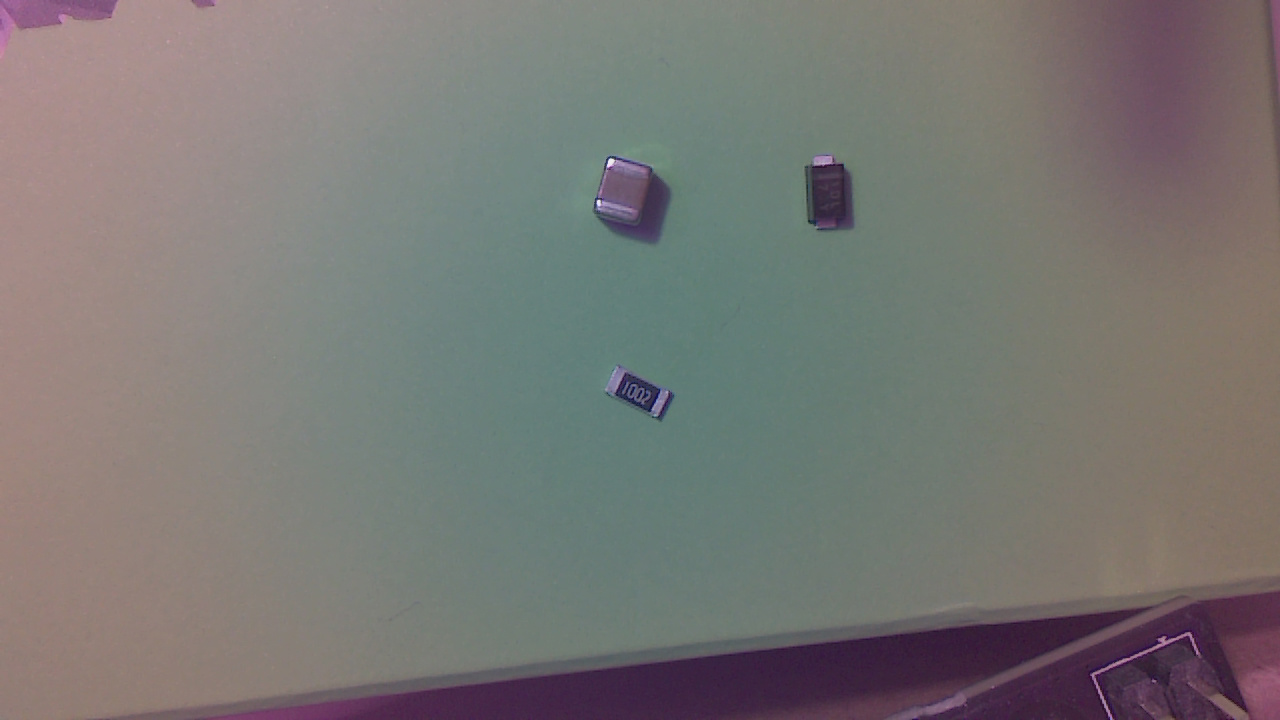Condensator: (596, 161, 665, 232)
Diode: (809, 156, 855, 237)
Resistor: (610, 372, 678, 422)
